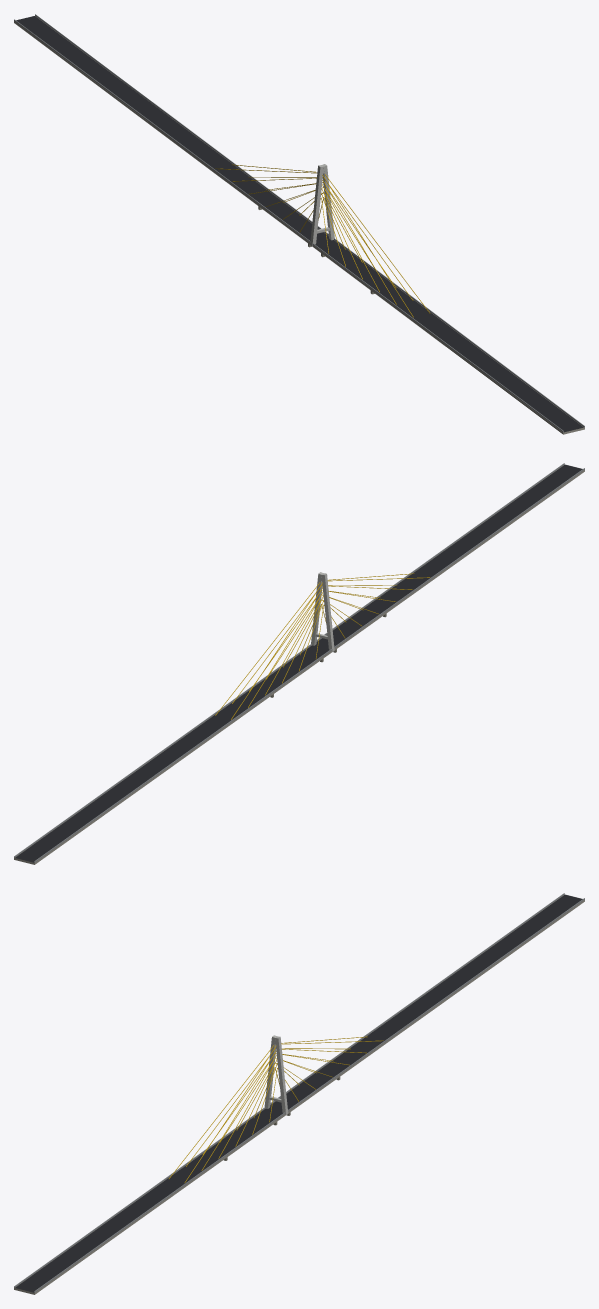
Rendered from jembatan-siak-4-lod1.glb.
3 views of the same model, one above another, from view 1: azimuth 30°, elevation 25°; view 2: azimuth 150°, elevation 25°; view 3: azimuth 330°, elevation 25° (orthographic). The views are drawn at different scales.
Parts seen in each view (by area): view 1: jembatan-siak-4_LOD1; view 2: jembatan-siak-4_LOD1; view 3: jembatan-siak-4_LOD1.
Boxes of the visible parts, left/top/right/bottom form: jembatan-siak-4_LOD1: left=14, top=14, right=584, bottom=434; jembatan-siak-4_LOD1: left=14, top=463, right=584, bottom=864; jembatan-siak-4_LOD1: left=14, top=893, right=584, bottom=1294.
Size of the model in its own units: 27 by 69.22 by 830.
